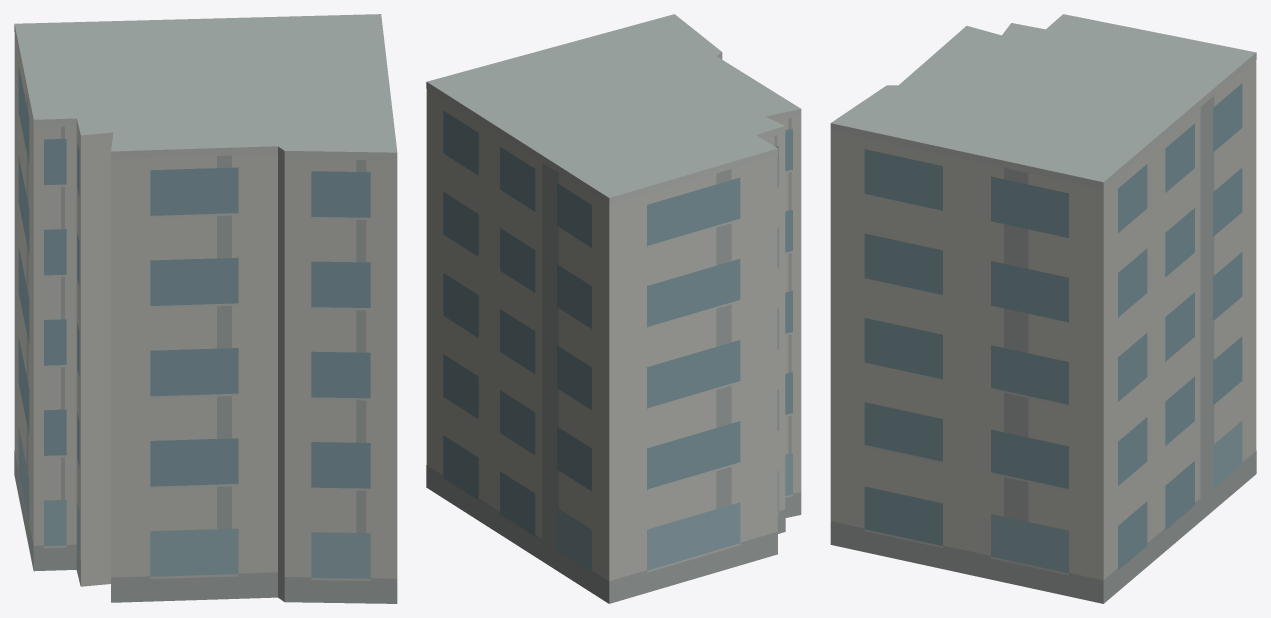
File: survey-upis-32727151.glb
3 renders of one model, left to right at view 1: azimuth 30°, elevation 25°; view 2: azimuth 150°, elevation 25°; view 3: azimuth 270°, elevation 25°, orthographic. The views are drawn at different scales.
Visible parts, largest first — view 1: survey-upis-32727151.tmp; view 2: survey-upis-32727151.tmp; view 3: survey-upis-32727151.tmp.
Part boxes in pixels (x1,y1,x2,y2): survey-upis-32727151.tmp: (14,14,397,603); survey-upis-32727151.tmp: (426,14,801,603); survey-upis-32727151.tmp: (830,14,1256,603).
Bounding box in the file's own units: 12.07 × 14.1 × 12.91.
